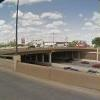Bridge: (2, 42, 99, 64)
